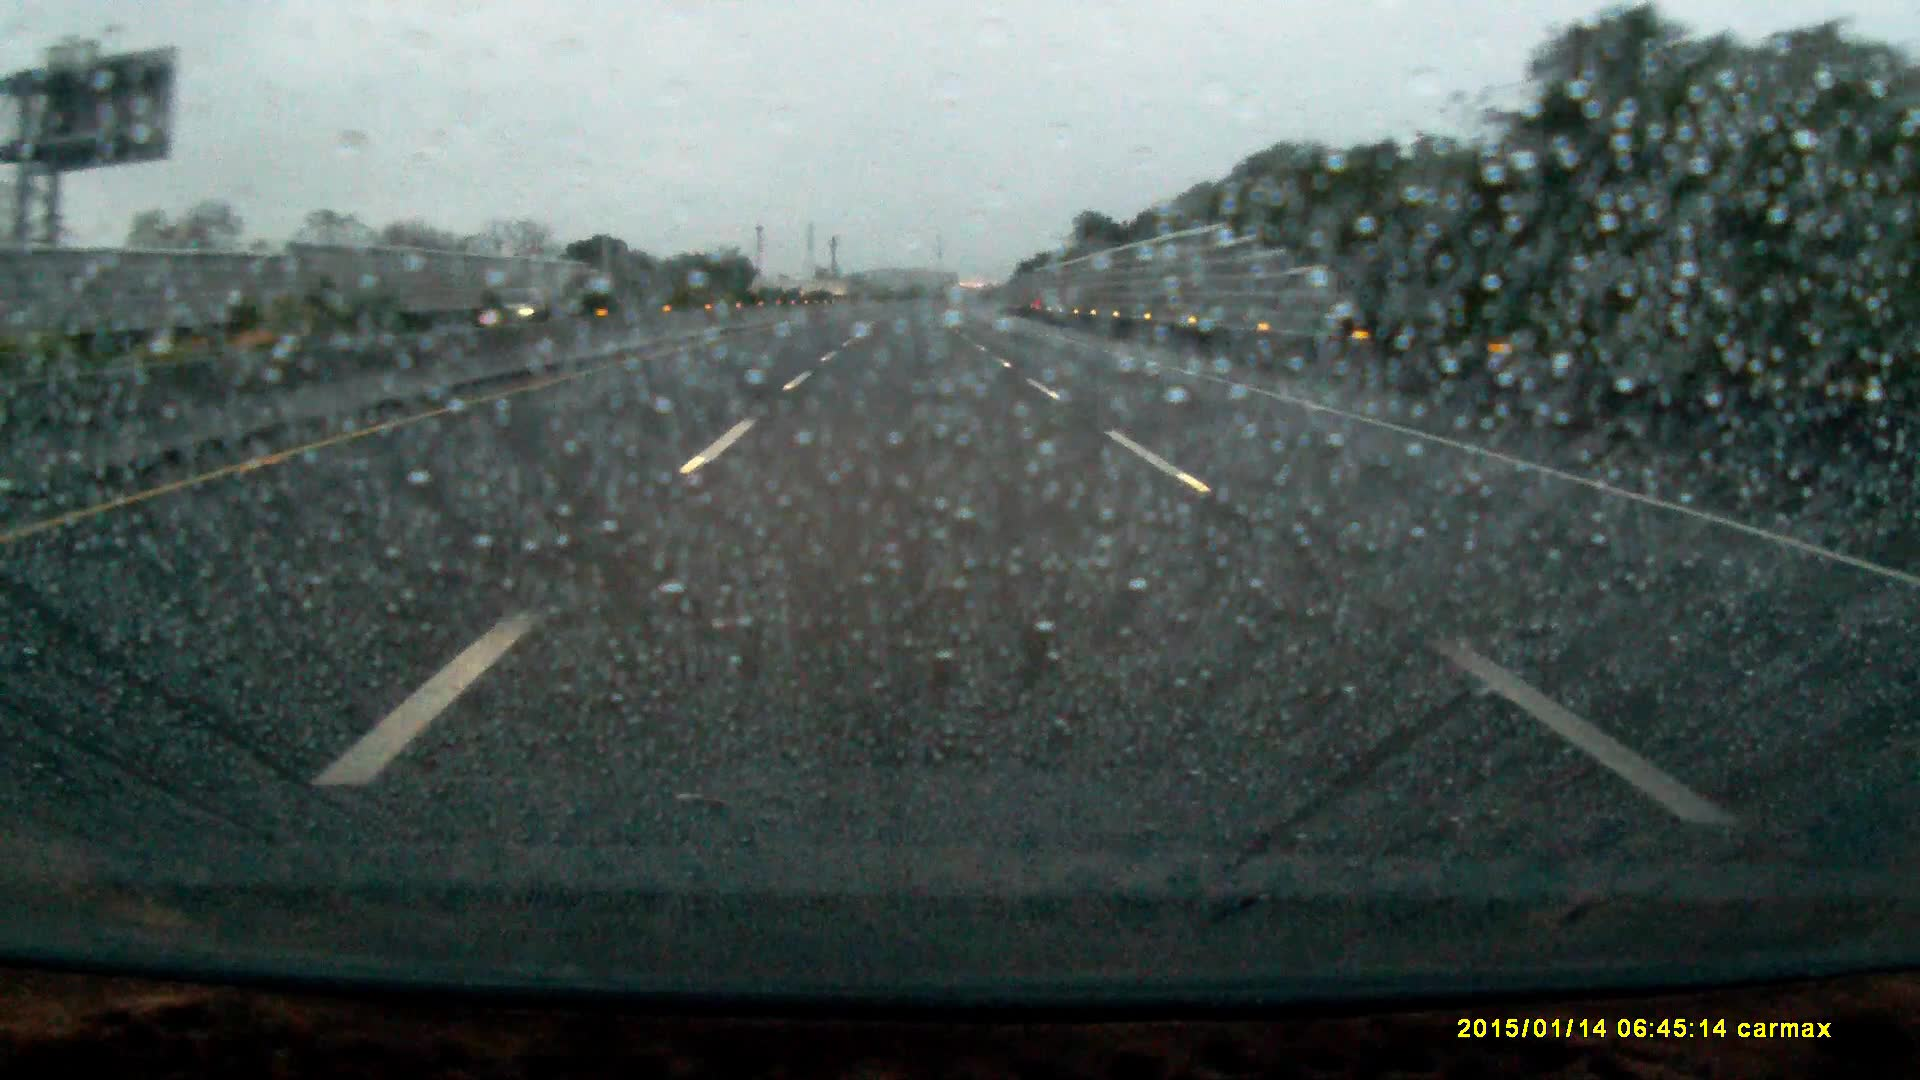vehicle: (487, 284, 549, 316)
